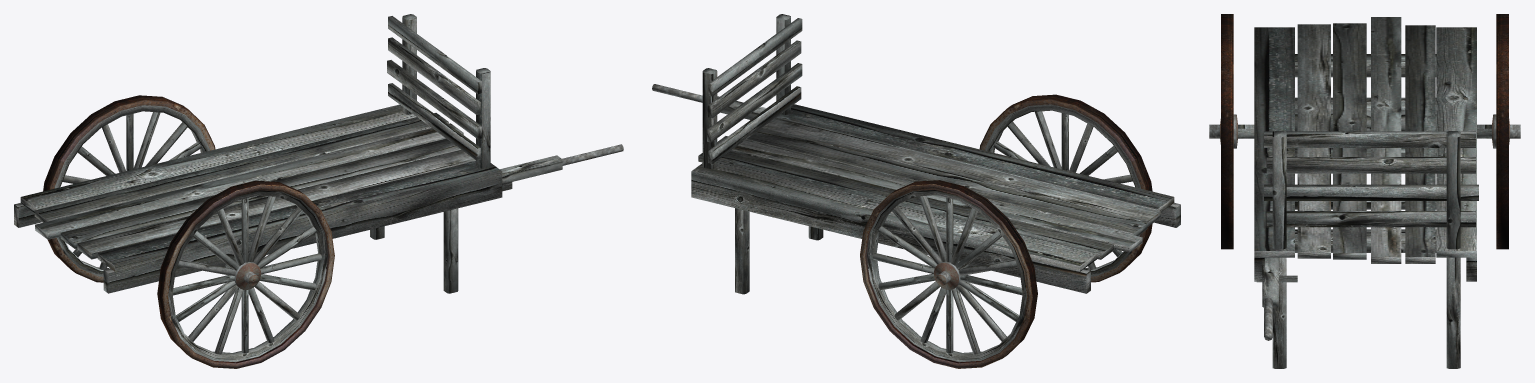
The model's file is FarmCartA.fbx.
The picture shows the model from 3 angles, left to right: view 1: azimuth 30°, elevation 25°; view 2: azimuth 150°, elevation 25°; view 3: azimuth 270°, elevation 25°; orthographic projection. The views are drawn at different scales.
Parts seen in each view (by area): view 1: FarmCartA; view 2: FarmCartA; view 3: FarmCartA.
Part boxes in pixels (bbox=[...]): FarmCartA: bbox=[14, 14, 623, 368]; FarmCartA: bbox=[652, 14, 1180, 368]; FarmCartA: bbox=[1209, 14, 1520, 368].
Size of the model in its own units: 280 by 108 by 120.
